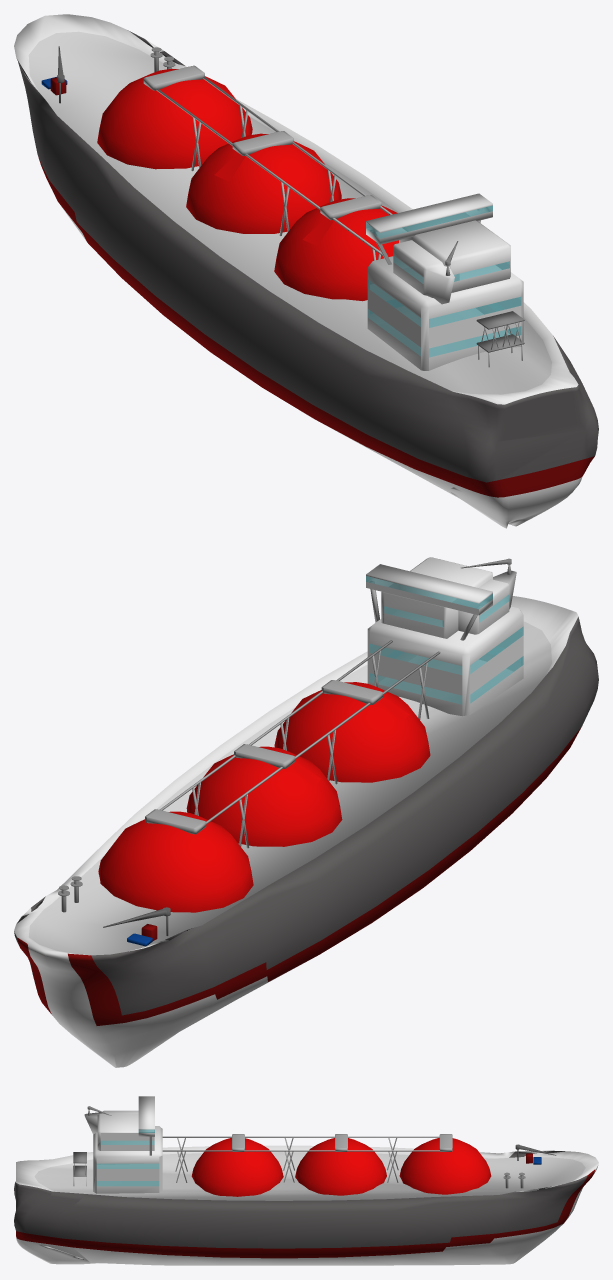
File: tanker.fbx
The picture shows the model from 3 angles, top to bottom: view 1: azimuth 30°, elevation 25°; view 2: azimuth 150°, elevation 25°; view 3: azimuth 270°, elevation 25°; orthographic projection. The views are drawn at different scales.
Parts seen in each view (by area): view 1: polySurface1; view 2: polySurface1; view 3: polySurface1.
Part boxes in pixels (<box>): polySurface1: <box>14,14,598,528</box>; polySurface1: <box>14,557,598,1067</box>; polySurface1: <box>14,1096,598,1265</box>.
Size of the model in its own units: 5.95 by 6.38 by 22.49.
